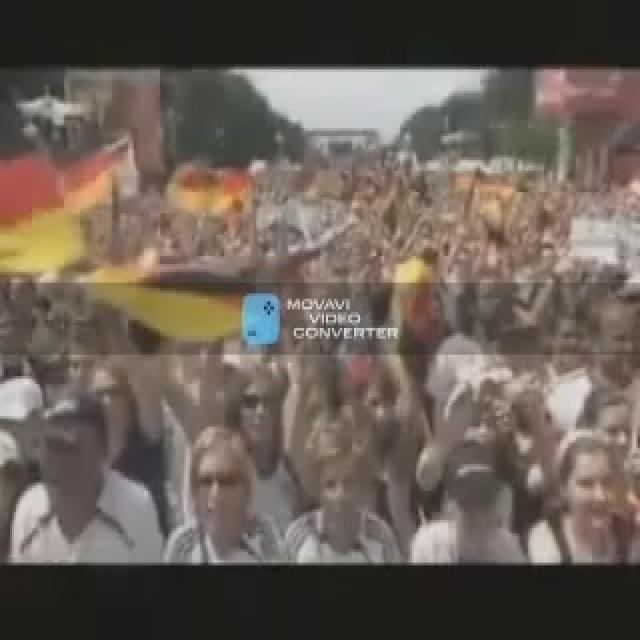non-voilence: (0, 141, 638, 563), (238, 288, 280, 347)
